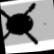not correct: (0, 0, 44, 48)
